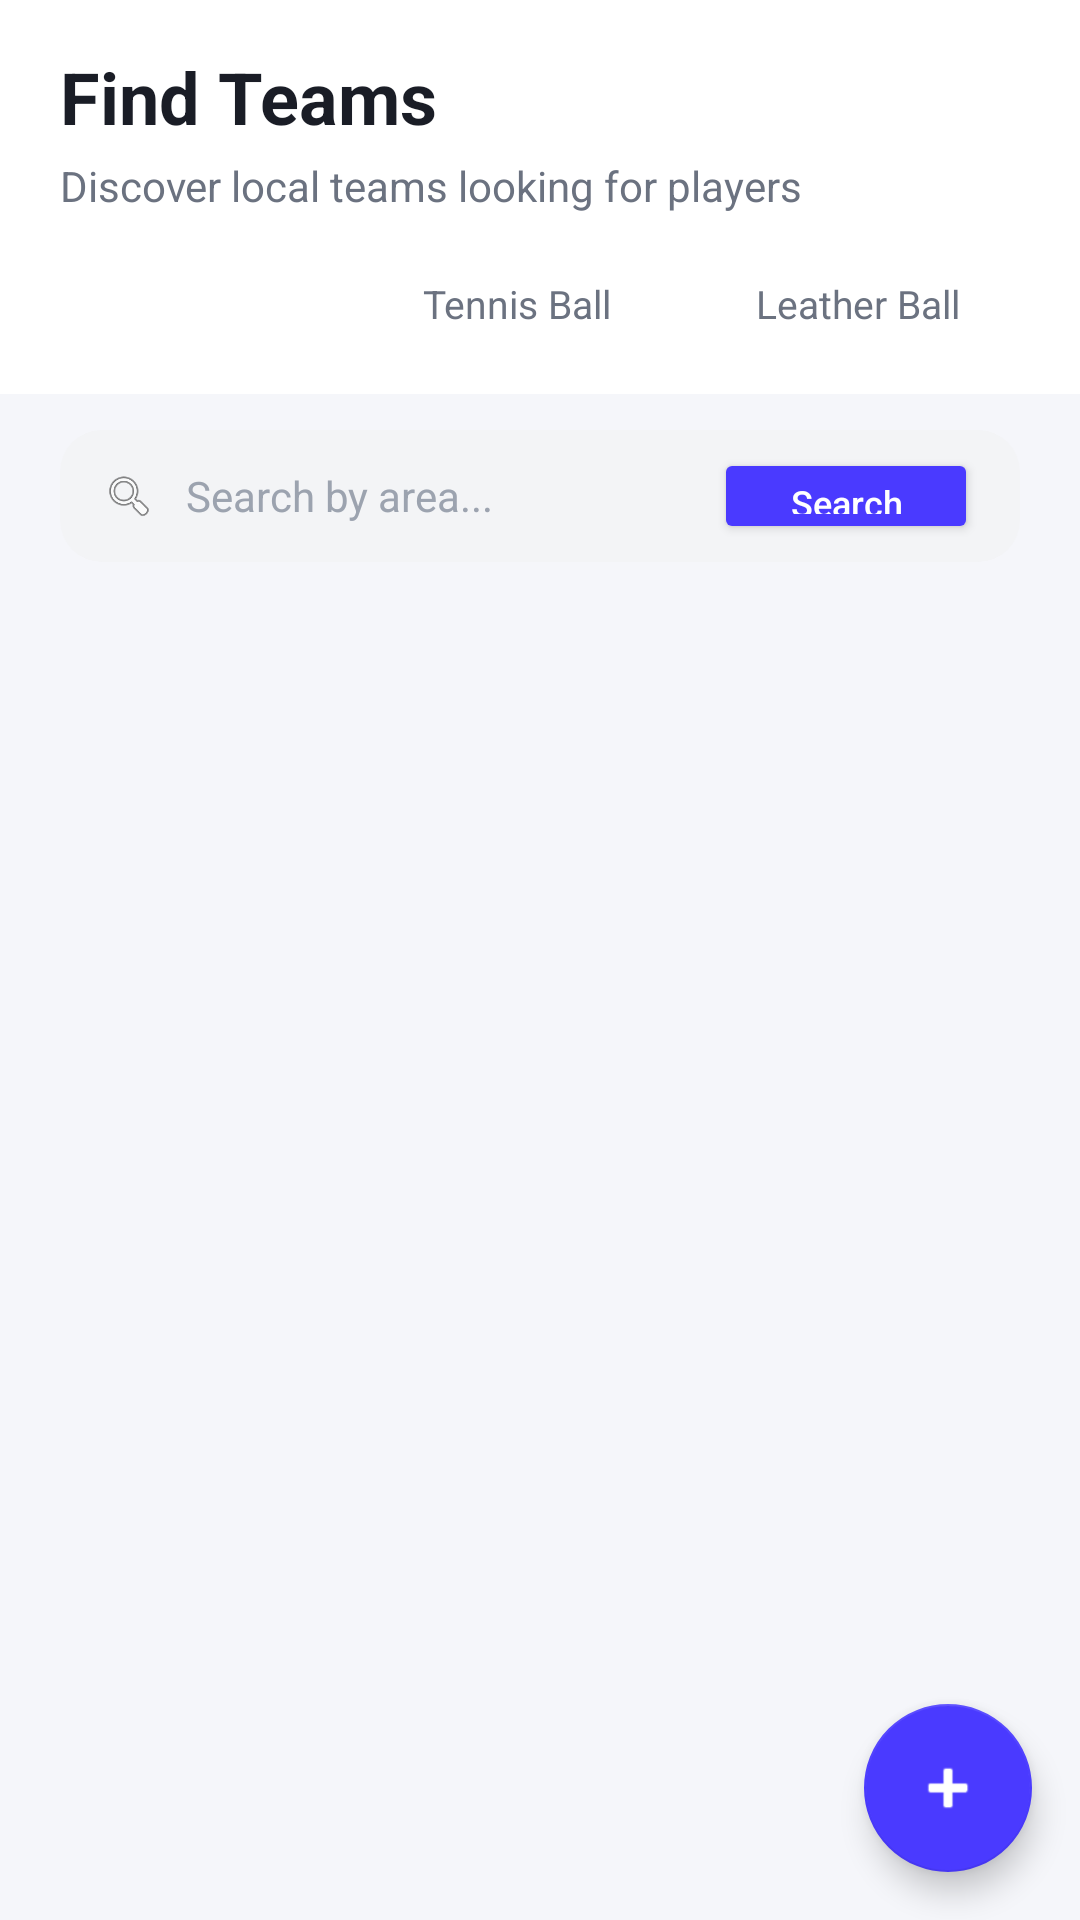

Where icons sit on this 1080x1920 app screen, as bbox(x1, y1, x2, y2):
Add Team: bbox(864, 1704, 1032, 1872)
